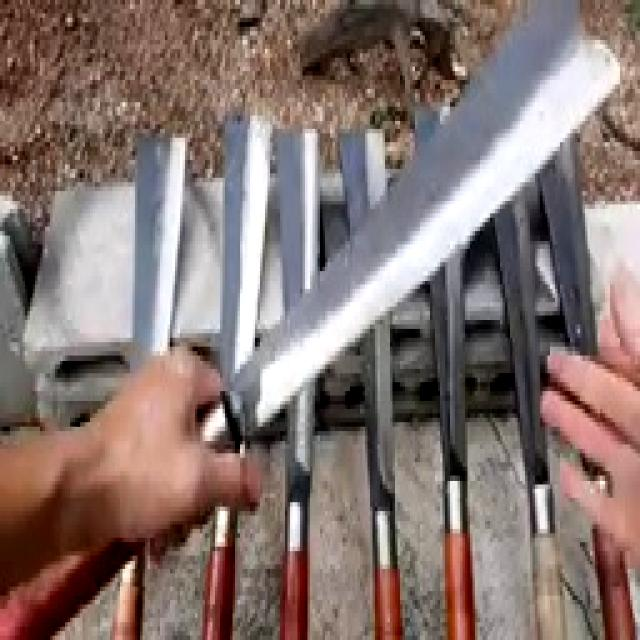eto: (0, 6, 622, 640)
